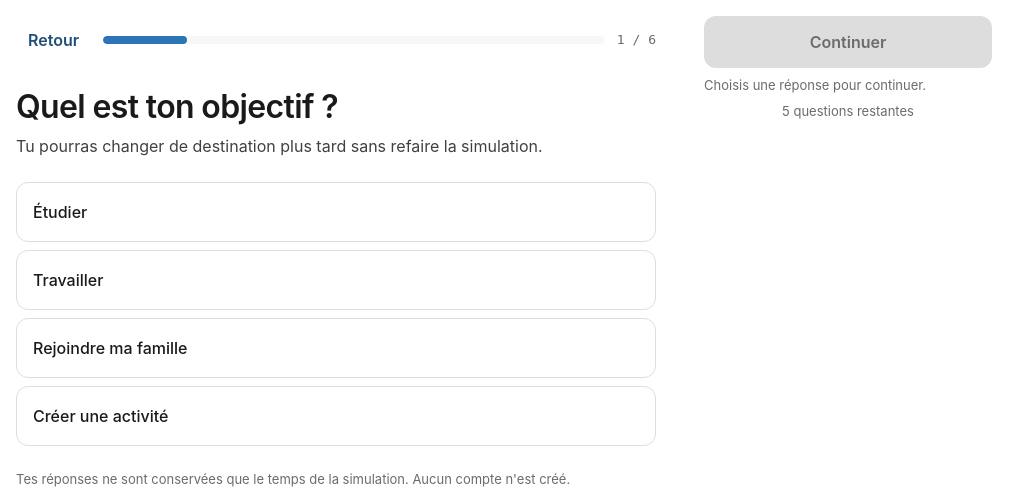
Test: P-02 — Simulateur › marque la réponse retenue par aria-checked
Click the radio button labelled "Étudier". click: click(60, 212)
box: [16,182,656,242]
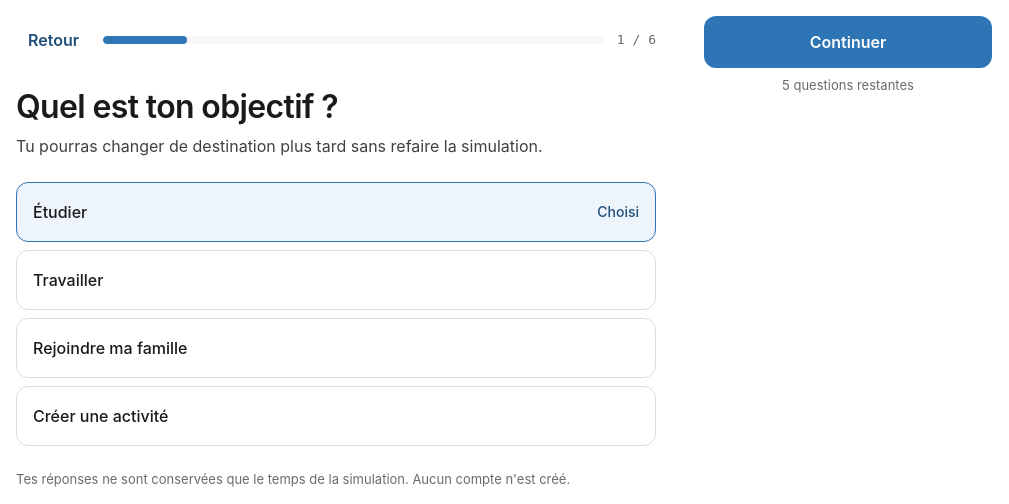
Check: the radio button labelled "Étudier Choisi" is checked, box [16,182,656,242]
Check: the button "Continuer" is enabled, box [704,16,992,68]
